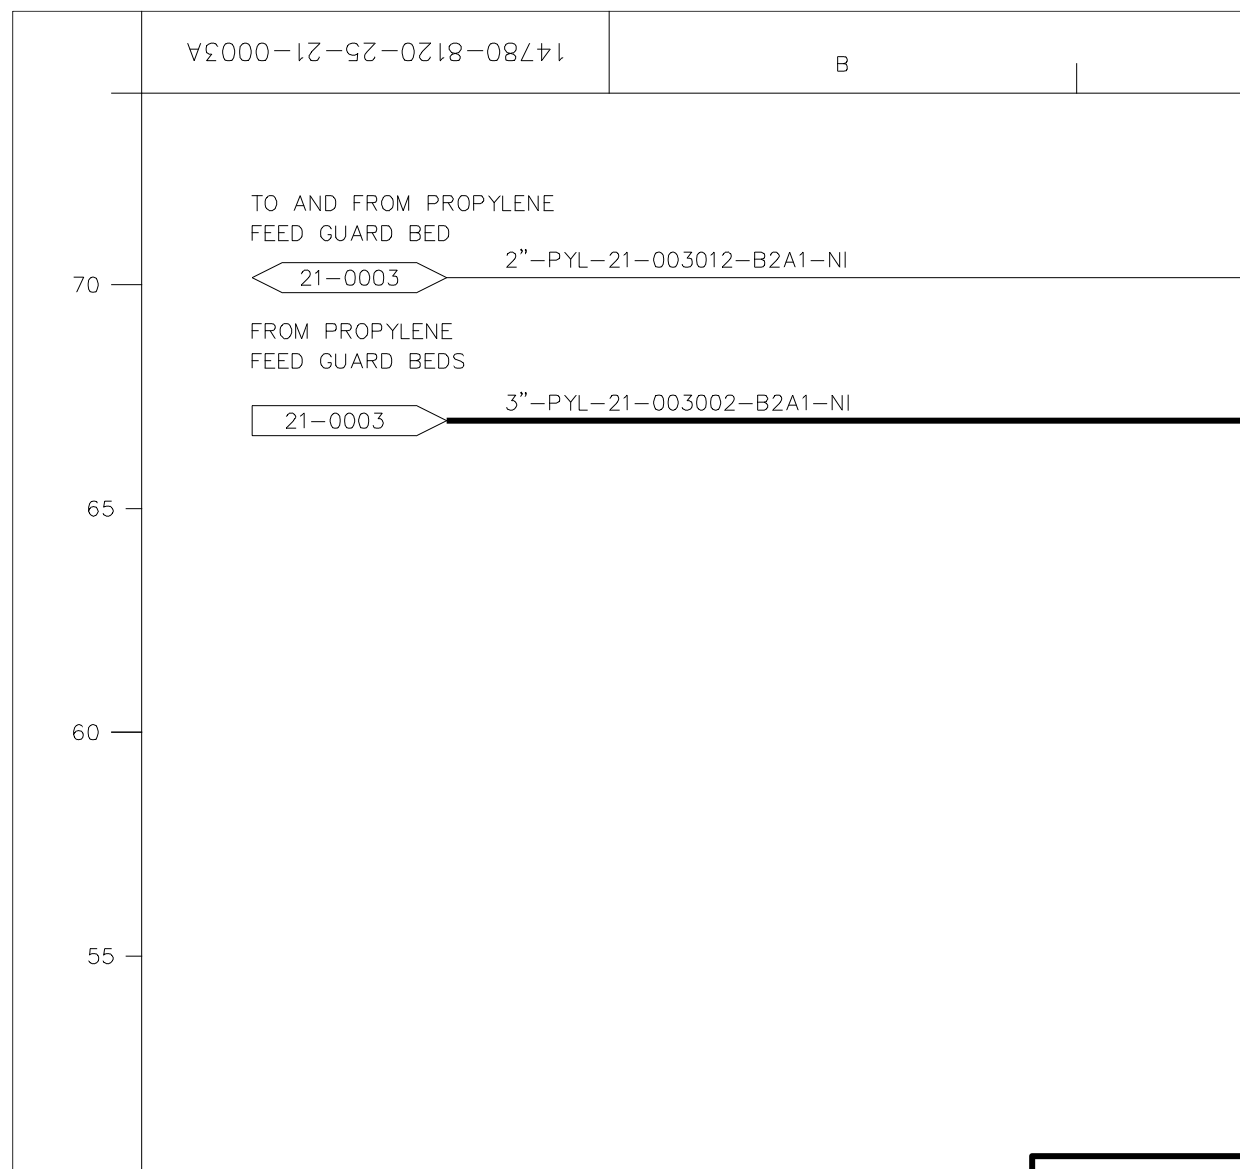Line Number: (499, 243, 857, 272), (498, 387, 859, 414)
Page In: (244, 396, 447, 447)
